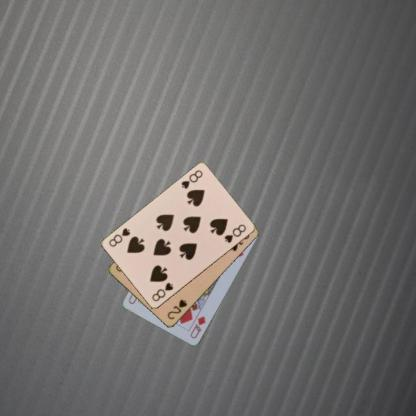2s: (164, 296, 189, 320)
8s: (149, 280, 175, 303), (178, 168, 204, 191)
Qd: (188, 314, 207, 340)
